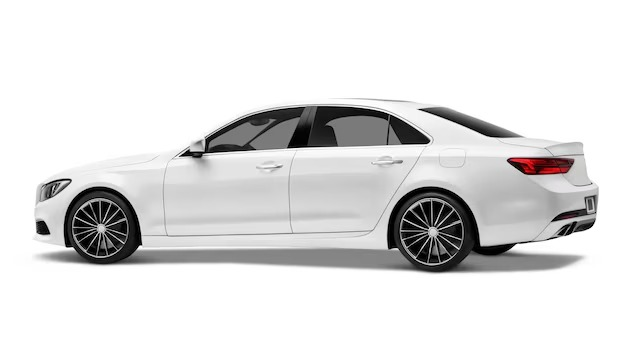car: (16, 101, 615, 272)
